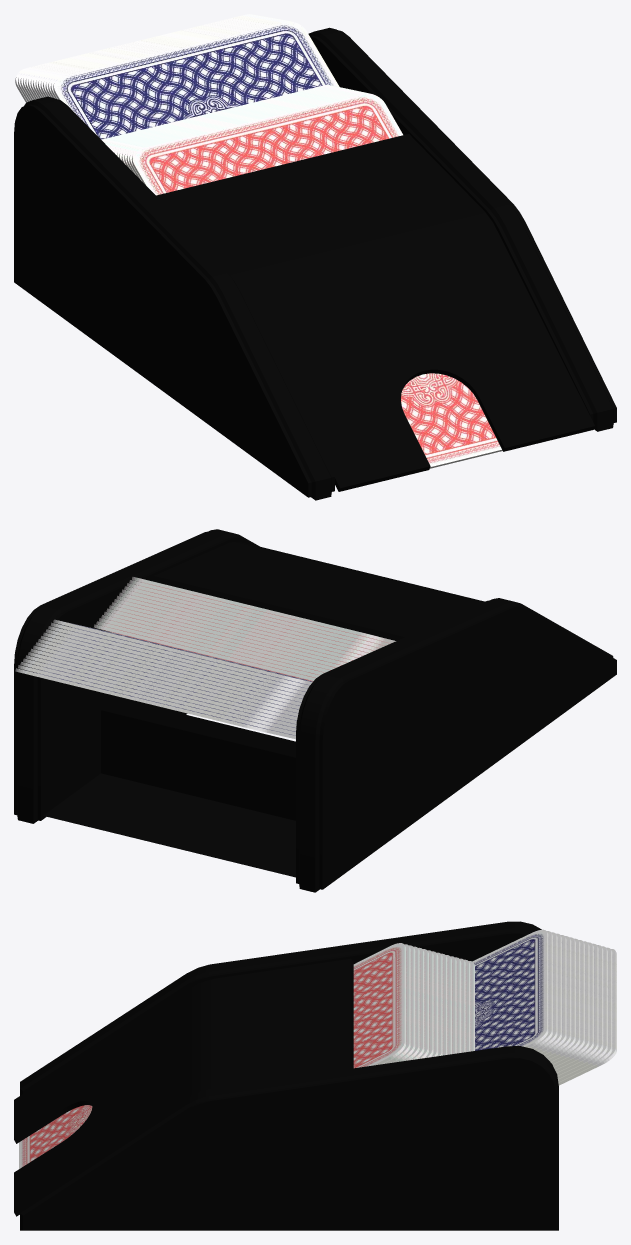
File: Card deck.fbx
The picture shows the model from 3 angles, top to bottom: view 1: azimuth 30°, elevation 25°; view 2: azimuth 150°, elevation 25°; view 3: azimuth 270°, elevation 25°; orthographic projection. The views are drawn at different scales.
Visible parts, largest first — view 1: Plane, blue card, red card, red card.001; view 2: Plane, blue card, red card; view 3: Plane, blue card, red card, red card.001.
Boxes of the visible parts, x1=… form: Plane: x1=14, y1=27, x2=616, y2=500; blue card: x1=15, y1=14, x2=339, y2=139; red card: x1=102, y1=85, x2=402, y2=195; red card.001: x1=401, y1=373, x2=502, y2=468; Plane: x1=14, y1=529, x2=616, y2=892; blue card: x1=15, y1=619, x2=312, y2=739; red card: x1=94, y1=577, x2=395, y2=681; Plane: x1=14, y1=921, x2=558, y2=1230; blue card: x1=472, y1=929, x2=616, y2=1085; red card: x1=353, y1=943, x2=474, y2=1068; red card.001: x1=19, y1=1105, x2=92, y2=1168.
Size of the model in its own units: 0.9543 by 0.5999 by 1.78.
